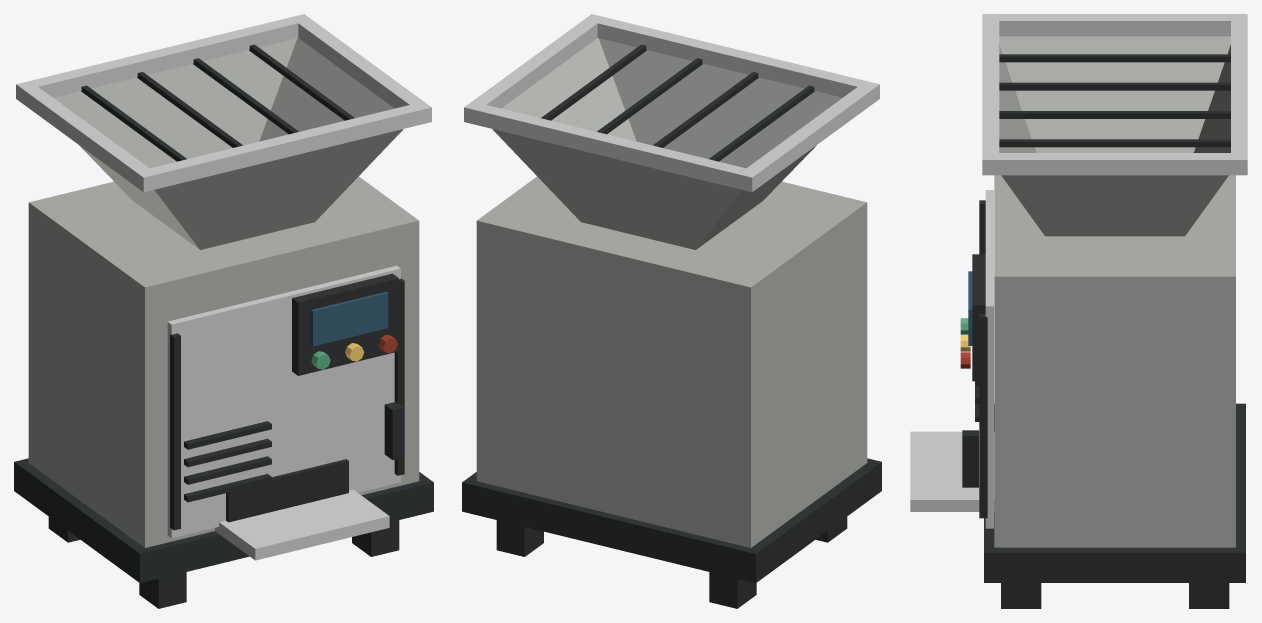
File: ModernFeedMachine.fbx
3 views of the same model, side by side, from view 1: azimuth 30°, elevation 25°; view 2: azimuth 150°, elevation 25°; view 3: azimuth 270°, elevation 25° (orthographic). The views are drawn at different scales.
Visible parts, largest first — view 1: ModernFeedMachine; view 2: ModernFeedMachine; view 3: ModernFeedMachine.
Boxes of the visible parts, bbox=[...] form: ModernFeedMachine: bbox=[14, 14, 433, 608]; ModernFeedMachine: bbox=[462, 14, 881, 608]; ModernFeedMachine: bbox=[910, 14, 1247, 608].
Size of the model in its own units: 105 by 152 by 101.
